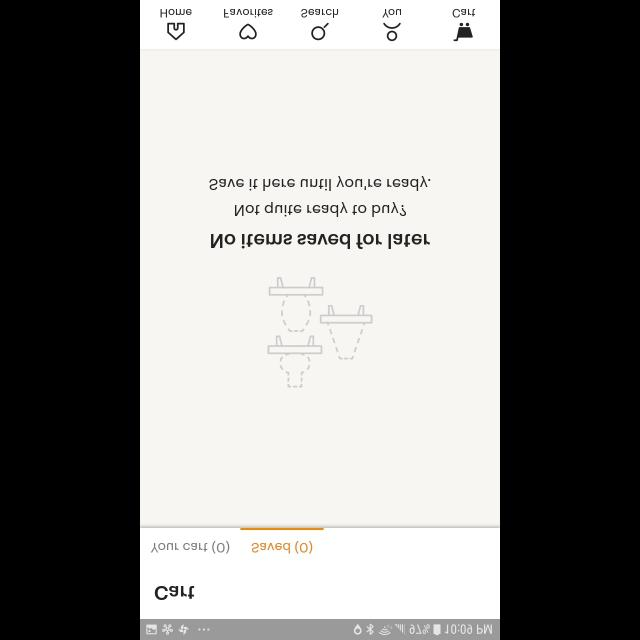icon: (453, 22, 472, 42), (383, 22, 401, 42), (311, 23, 329, 41), (167, 22, 185, 40), (239, 24, 257, 40)
image: (268, 277, 374, 387)
text: (210, 176, 430, 216), (212, 234, 430, 250), (152, 541, 230, 553), (252, 540, 312, 554), (155, 584, 195, 600), (224, 8, 272, 18), (302, 8, 338, 18), (160, 8, 192, 18), (382, 8, 402, 18), (453, 9, 475, 17)
uppertaskbar: (140, 618, 500, 640)
